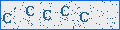C: (80, 12, 88, 22), (61, 6, 69, 16), (43, 10, 51, 20), (26, 6, 34, 16), (3, 13, 11, 23)
